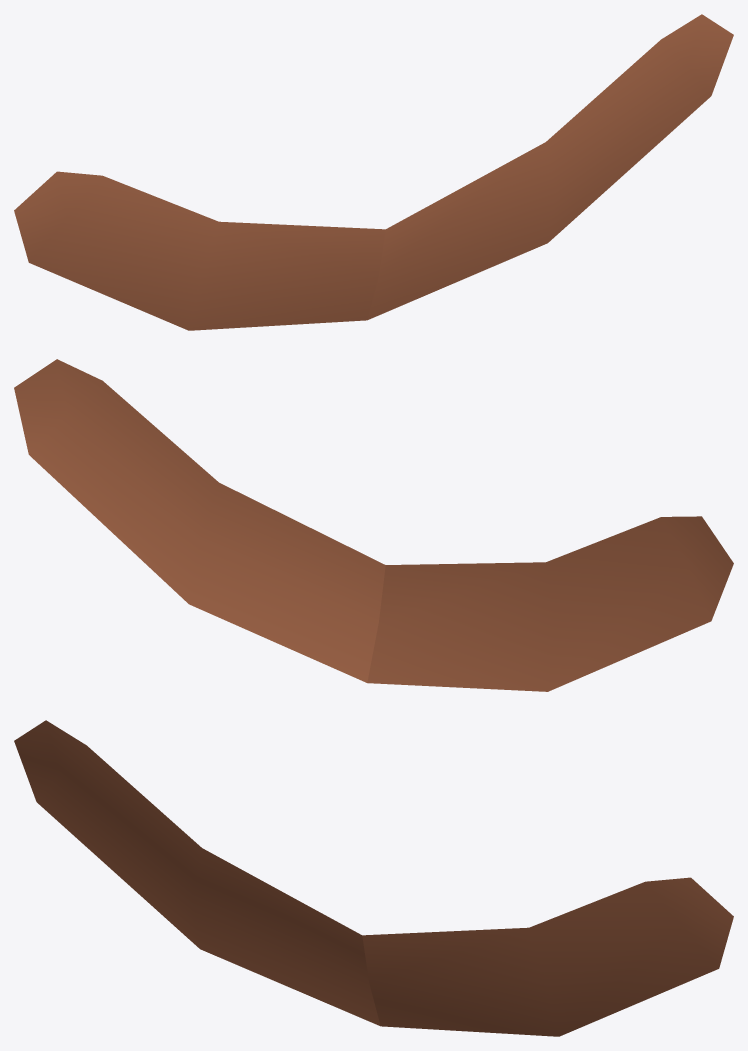
File: Mouth_Yellow_1.fbx
3 renders of one model, top to bottom at view 1: azimuth 30°, elevation 25°; view 2: azimuth 150°, elevation 25°; view 3: azimuth 330°, elevation 25°, orthographic.
Visible parts, largest first — view 1: Mouth_Yellow_1; view 2: Mouth_Yellow_1; view 3: Mouth_Yellow_1.
Part boxes in pixels (bbox=[...]): Mouth_Yellow_1: bbox=[14, 14, 733, 330]; Mouth_Yellow_1: bbox=[14, 359, 733, 691]; Mouth_Yellow_1: bbox=[14, 720, 733, 1036].
Bounding box in the file's own units: 7.29 × 2.29 × 0.3234.
